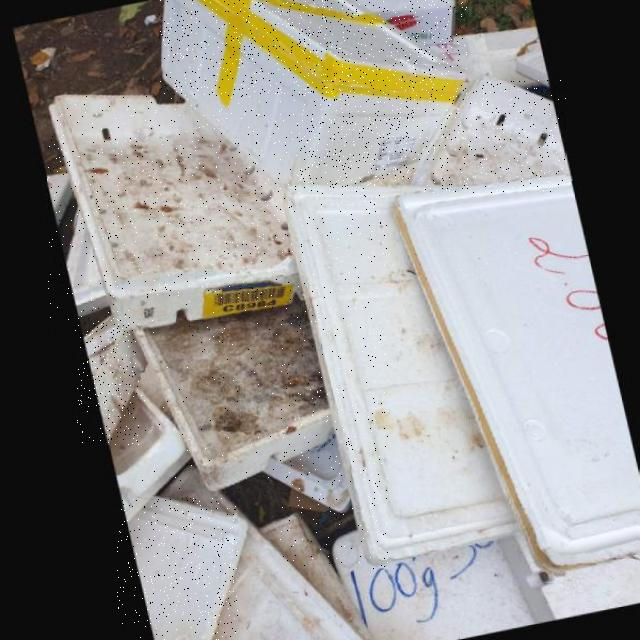styrofoam: (389, 182, 639, 583), (280, 189, 508, 569), (47, 96, 297, 334), (160, 0, 467, 190), (127, 299, 325, 494), (118, 498, 238, 640), (421, 81, 566, 193), (78, 317, 139, 445)
